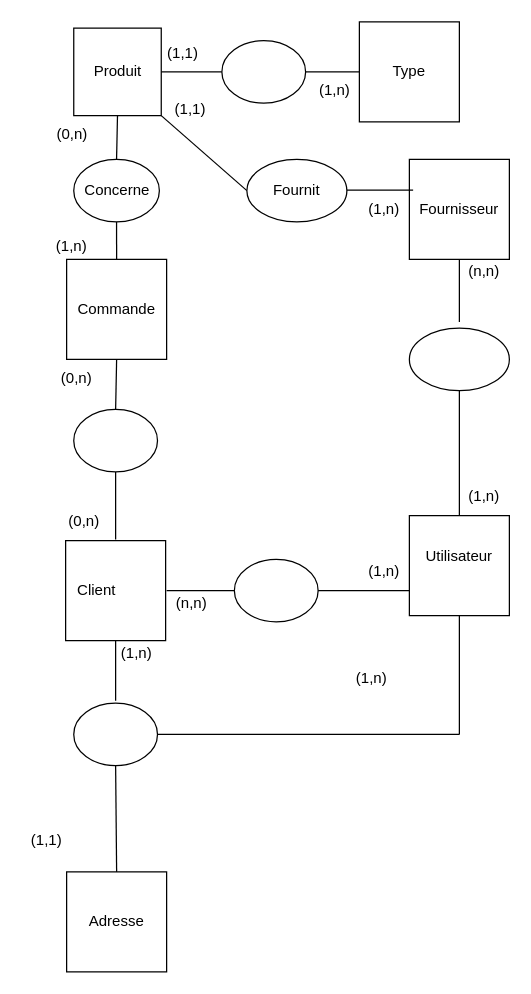
This 531x994 diagram has some shape labels left out. Here are the shapes that lost their labels. From the top down, the centre of each, then its label:
the point at 263,71: Possede
the point at 458,359: Fait_partie
the point at 115,440: Passe
the point at 275,590: Appartient
the point at 115,734: Réside
